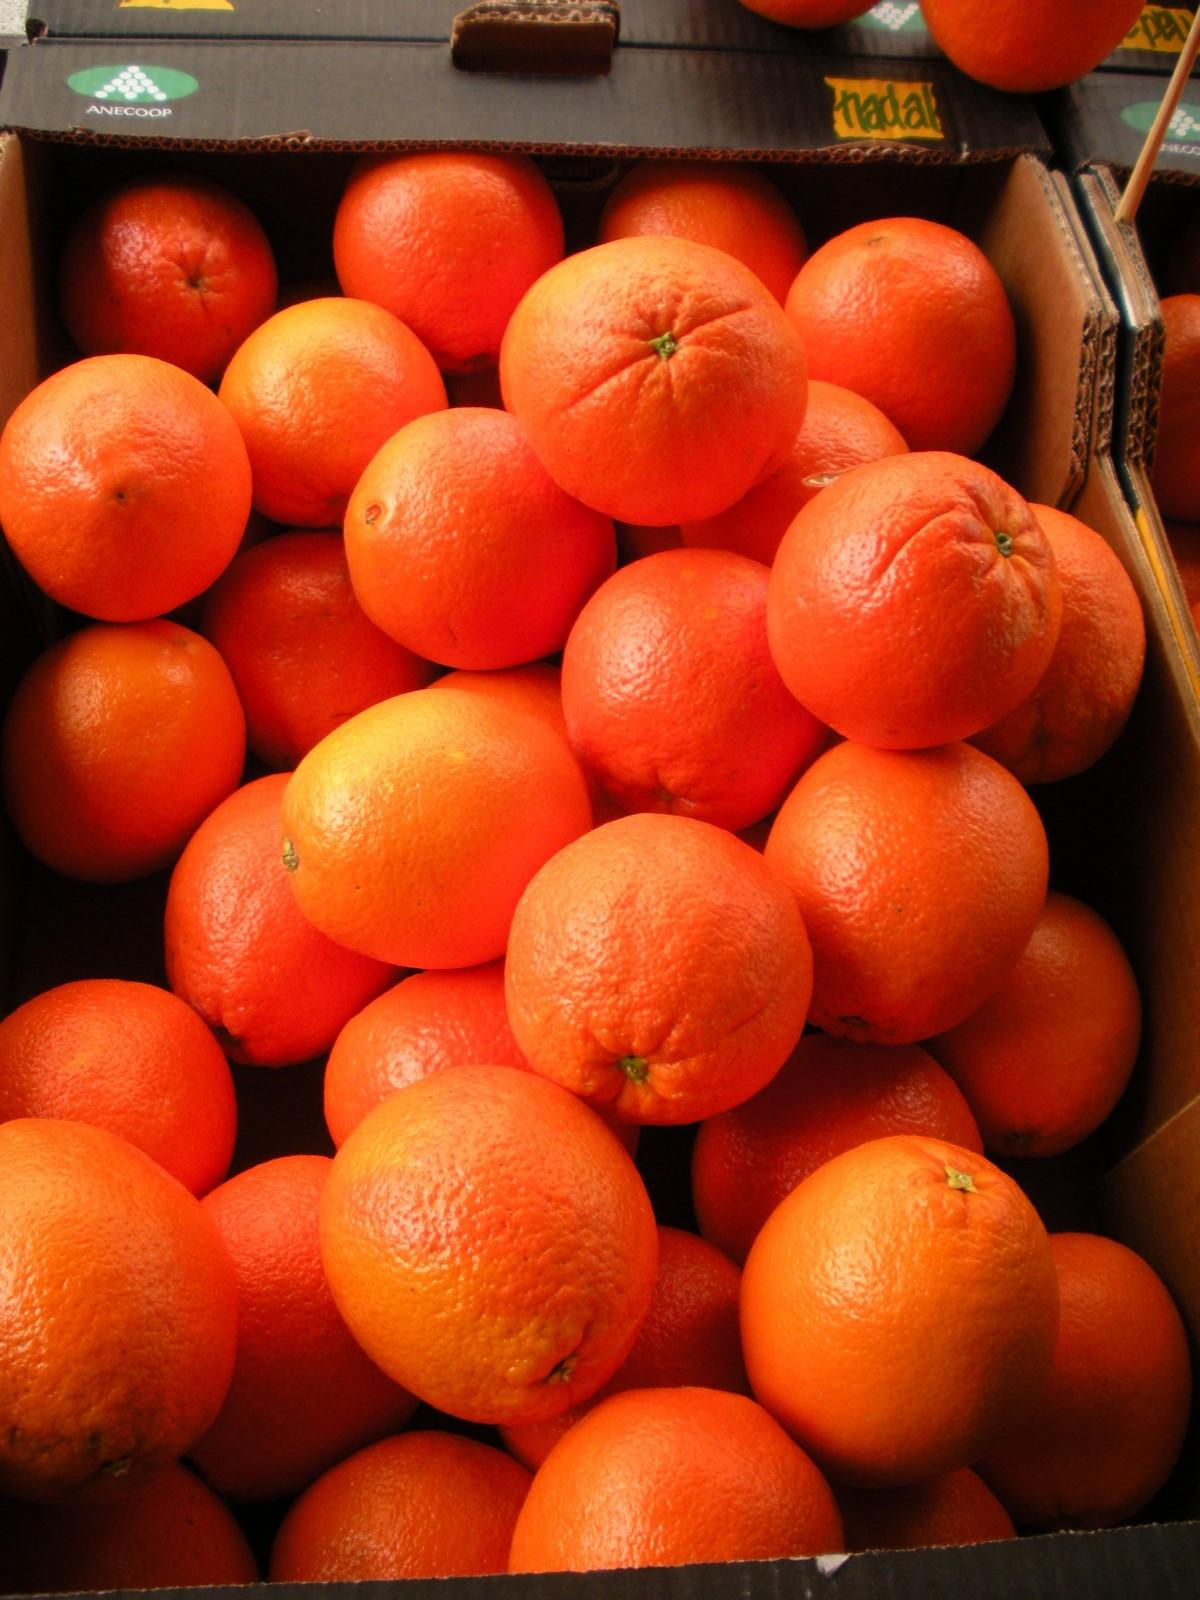orange: (306, 1067, 661, 1432), (736, 1128, 1059, 1480), (250, 678, 619, 960), (513, 801, 829, 1117), (760, 461, 1076, 765), (6, 1114, 256, 1498), (766, 741, 1045, 1053), (483, 241, 802, 509), (570, 551, 821, 843), (347, 411, 600, 669), (14, 350, 258, 614)
